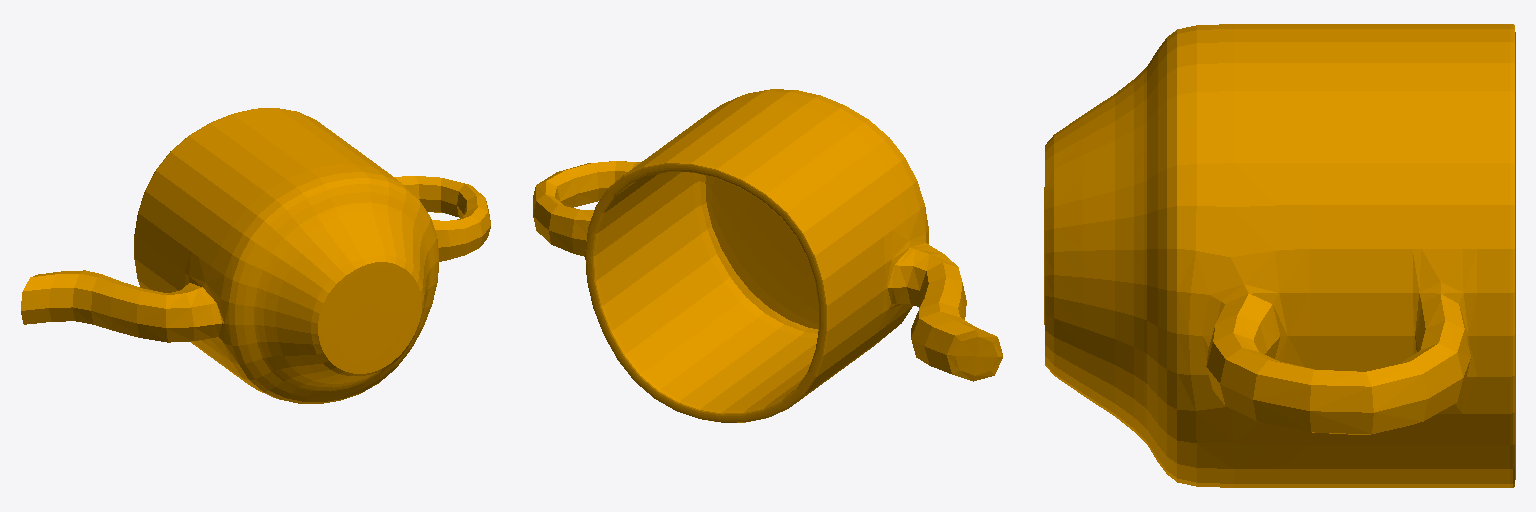
URDF robot description (156):
<?xml version="1.0" ?>
<robot name="156">
  <link name="body">
    <visual>
      <geometry>
        <mesh filename="../shapes/156.obj"/>
      </geometry>
    </visual>
    <collision>
      <geometry>
        <mesh filename="../shapes/156.obj"/>
      </geometry>
    </collision>
  </link>
</robot>

--- Facts derived from the render (not from the file) ---
3 views of the same robot in one strip: view 1: azimuth 30°, elevation 25°; view 2: azimuth 150°, elevation 25°; view 3: azimuth 270°, elevation 25° (orthographic).
Model 156 with 1 links and 0 joints (none), rooted at body, posed every joint at zero.
Visible links, largest first — view 1: body; view 2: body; view 3: body.
Boxes of the visible links, box(x1,y1,x2,y2) form: body: box(21, 108, 490, 403); body: box(533, 89, 1002, 422); body: box(1044, 24, 1515, 487).
Bounding box of the posed robot: 4.88 × 2.51 × 2.42 m (x, y, z).
1 mesh visuals loaded from 1 distinct referenced files (1 OBJ).